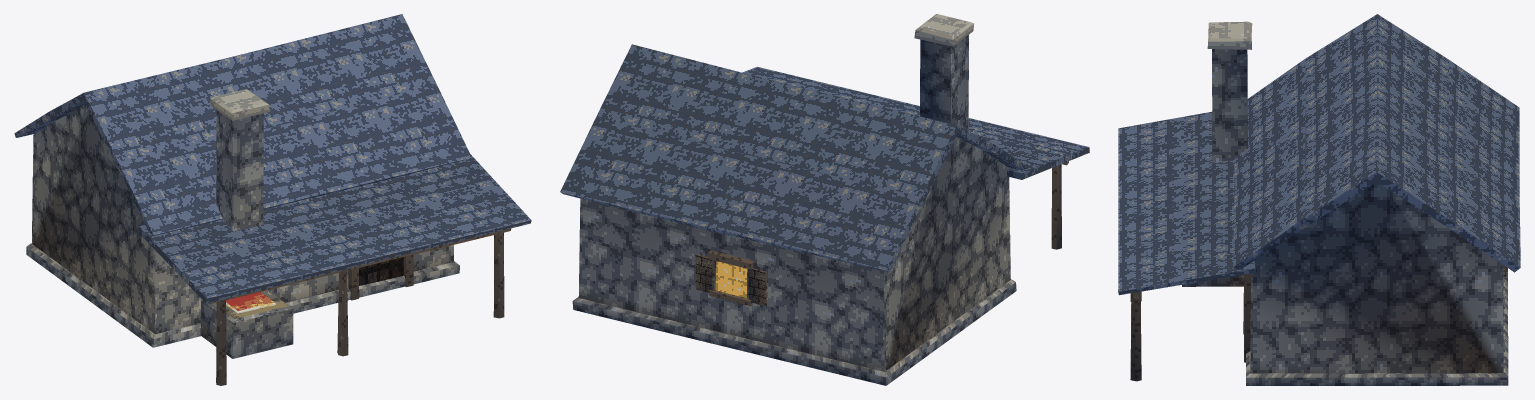
The model's file is vlg.smithy.glb.
3 views of the same model, side by side, from view 1: azimuth 30°, elevation 25°; view 2: azimuth 150°, elevation 25°; view 3: azimuth 270°, elevation 25° (orthographic). The views are drawn at different scales.
Parts seen in each view (by area): view 1: kit_roof, kit_walls, kit_stonework, kit_frame, kit_fittings; view 2: kit_roof, kit_walls, kit_stonework, kit_fittings, kit_frame; view 3: kit_roof, kit_walls, kit_stonework, kit_frame, kit_fittings.
Part boxes in pixels (x1,y1,x2,y2): kit_roof: (14, 14, 531, 303); kit_walls: (31, 104, 453, 334); kit_stonework: (26, 89, 459, 358); kit_frame: (211, 228, 511, 385); kit_fittings: (226, 254, 413, 313); kit_roof: (560, 44, 1089, 272); kit_walls: (578, 136, 1010, 371); kit_stonework: (572, 14, 1016, 385); kit_fittings: (695, 250, 766, 306); kit_frame: (1051, 161, 1068, 249); kit_roof: (1118, 14, 1520, 295); kit_walls: (1250, 182, 1503, 373); kit_stonework: (1182, 21, 1508, 385); kit_frame: (1130, 291, 1141, 381); kit_fittings: (1243, 265, 1507, 362).
Size of the model in its own units: 7.63 by 5.27 by 7.94.
9 materials, 9 textured.
